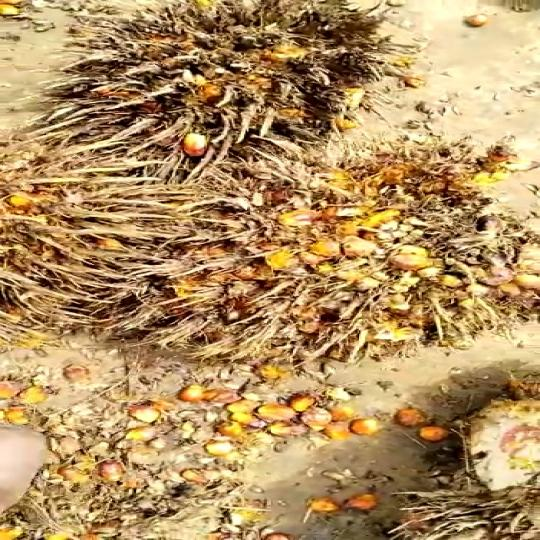terlalu masak: (66, 146, 522, 363), (31, 0, 398, 169)
